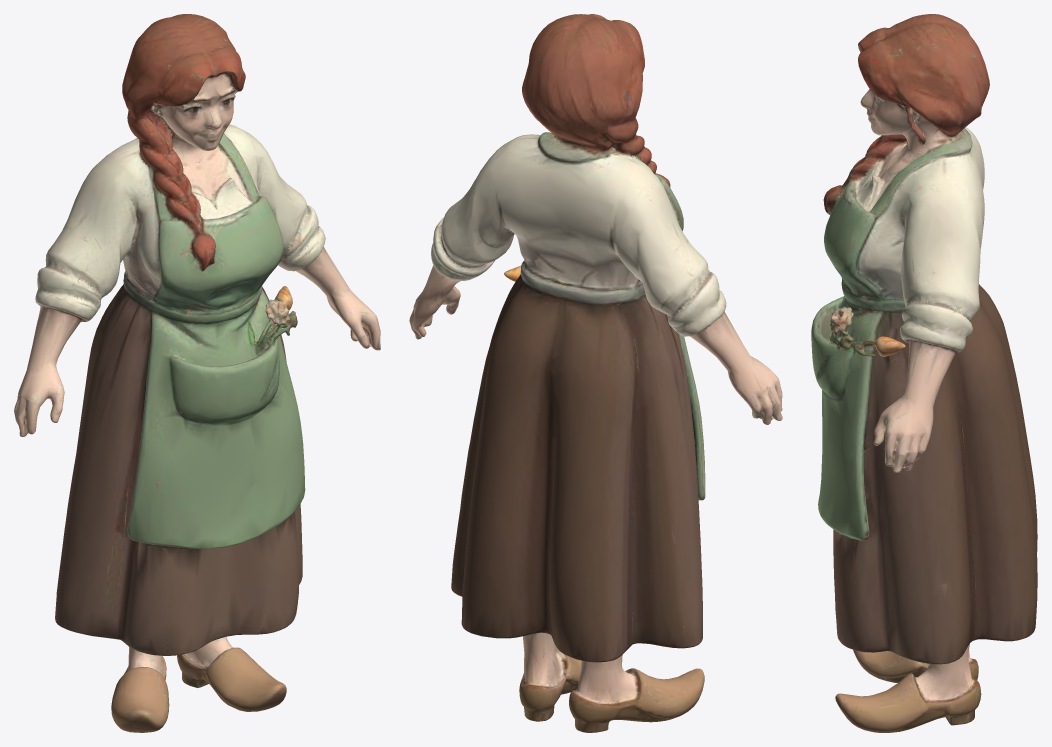
The model's file is npc_flora.glb.
The picture shows the model from 3 angles, left to right: view 1: azimuth 30°, elevation 25°; view 2: azimuth 150°, elevation 25°; view 3: azimuth 270°, elevation 25°; orthographic projection.
Parts seen in each view (by area): view 1: Mesh_0; view 2: Mesh_0; view 3: Mesh_0.
Boxes of the visible parts, x1,y1,x2,y2 form: Mesh_0: [14, 14, 380, 732]; Mesh_0: [409, 14, 782, 732]; Mesh_0: [811, 14, 1037, 732].
Bounding box in the file's own units: 1.06 × 1.91 × 0.5728.
Materials: 1 (1 with a texture image).
